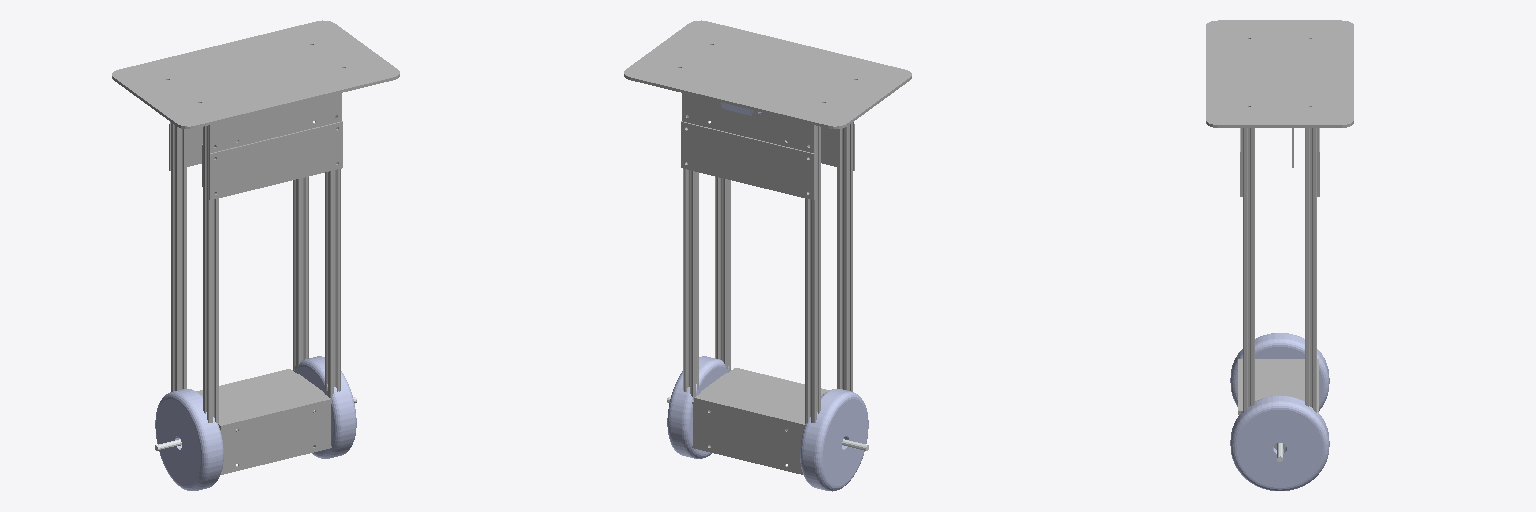
robot.urdf — robot_description:
<?xml version="1.0" encoding="utf-8"?>
<!-- This URDF was automatically created by SolidWorks to URDF Exporter! Originally created by [author] ([email redacted]) 
     Commit Version: 1.5.1-0-g916b5db  Build Version: 1.5.7152.31018
     For more information, please see http://wiki.ros.org/sw_urdf_exporter -->
<robot
  name="robot_description">

  <link name="dummy_link"/>
  <joint
    name="dummy_joint"
    type="fixed">
    <origin
      xyz="0 0 0"
      rpy="0 0 0" />
    <parent
      link="dummy_link" />
    <child
      link="base_link" />
    <axis
      xyz="0 0 1" />
  </joint>

  <link
    name="base_link">
    <inertial>
      <origin
        xyz="-0.029897 -0.0063579 0.065352"
        rpy="0 0 0" />
      <mass
        value="8.1022" />
      <inertia
        ixx="0.066729"
        ixy="-2.3487E-07"
        ixz="-4.1569E-08"
        iyy="0.11154"
        iyz="1.6155E-09"
        izz="0.072099" />
    </inertial>
    <visual>
      <origin
        xyz="0 0 0"
        rpy="0 0 0" />
      <geometry>
        <mesh
          filename="package://robot_description/meshes/base_link.STL" />
      </geometry>
      <material
        name="">
        <color
          rgba="0.75294 0.75294 0.75294 1" />
      </material>
    </visual>
    <collision>
      <origin
        xyz="0 0 0"
        rpy="0 0 0" />
      <geometry>
        <mesh
          filename="package://robot_description/meshes/base_link.STL" />
      </geometry>
    </collision>
  </link>
  <link
    name="wheelR">
    <inertial>
      <origin
        xyz="2.77555756156289E-17 0 -0.0254"
        rpy="0 0 0" />
      <mass
        value="0.531292410935558" />
      <inertia
        ixx="0.00147538813503172"
        ixy="-1.0842021724855E-19"
        ixz="1.61755601598952E-19"
        iyy="0.00147538813503172"
        iyz="2.59363716732849E-19"
        izz="0.00273092471725038" />
    </inertial>
    <visual>
      <origin
        xyz="0 0 0"
        rpy="0 0 0" />
      <geometry>
        <mesh
          filename="package://robot_description/meshes/wheelR.STL" />
      </geometry>
      <material
        name="">
        <color
          rgba="0.792156862745098 0.819607843137255 0.933333333333333 1" />
      </material>
    </visual>
    <collision>
      <origin
        xyz="0 0 0"
        rpy="0 0 0" />
      <geometry>
        <mesh
          filename="package://robot_description/meshes/wheelR.STL" />
      </geometry>
    </collision>
  </link>
  <joint
    name="wheelR"
    type="continuous">
    <origin
      xyz="0.14825 -0.0058043 -0.43388"
      rpy="1.5708 -0.49989 -1.5708" />
    <parent
      link="base_link" />
    <child
      link="wheelR" />
    <axis
      xyz="0 0 1" />
  </joint>
  <link
    name="wheelL">
    <inertial>
      <origin
        xyz="-1.38777878078145E-17 -5.55111512312578E-17 0.0254"
        rpy="0 0 0" />
      <mass
        value="0.531292410935558" />
      <inertia
        ixx="0.00147538813503172"
        ixy="5.42101086242752E-20"
        ixz="4.38565730543312E-20"
        iyy="0.00147538813503172"
        iyz="2.95878237444735E-19"
        izz="0.00273092471725038" />
    </inertial>
    <visual>
      <origin
        xyz="0 0 0"
        rpy="0 0 0" />
      <geometry>
        <mesh
          filename="package://robot_description/meshes/wheelL.STL" />
      </geometry>
      <material
        name="">
        <color
          rgba="0.792156862745098 0.819607843137255 0.933333333333333 1" />
      </material>
    </visual>
    <collision>
      <origin
        xyz="0 0 0"
        rpy="0 0 0" />
      <geometry>
        <mesh
          filename="package://robot_description/meshes/wheelL.STL" />
      </geometry>
    </collision>
  </link>
  <joint
    name="wheelL"
    type="continuous">
    <origin
      xyz="-0.20735 -0.0058043 -0.43388"
      rpy="1.5708 -0.16952 -1.5708" />
    <parent
      link="base_link" />
    <child
      link="wheelL" />
    <axis
      xyz="0 0 1" />
  </joint>
  <link
    name="axle">
    <inertial>
      <origin
        xyz="0 0 0.0295470259206042"
        rpy="0 0 0" />
      <mass
        value="0.156374995124279" />
      <inertia
        ixx="0.00272552243775348"
        ixy="0"
        ixz="3.12809364604665E-20"
        iyy="0.00272552243775348"
        iyz="-3.58631475316958E-20"
        izz="3.15271537044936E-06" />
    </inertial>
    <visual>
      <origin
        xyz="0 0 0"
        rpy="0 0 0" />
      <geometry>
        <mesh
          filename="package://robot_description/meshes/axle.STL" />
      </geometry>
      <material
        name="">
        <color
          rgba="0.898039215686275 0.917647058823529 0.929411764705882 1" />
      </material>
    </visual>
    <collision>
      <origin
        xyz="0 0 0"
        rpy="0 0 0" />
      <geometry>
        <mesh
          filename="package://robot_description/meshes/axle.STL" />
      </geometry>
    </collision>
  </link>
  <joint
    name="axle"
    type="continuous">
    <origin
      xyz="0 -0.0058043 -0.43388"
      rpy="1.5708 -0.16952 -1.5708" />
    <parent
      link="base_link" />
    <child
      link="axle" />
    <axis
      xyz="0 0 1" />
  </joint>
  <link
    name="imu">
    <inertial>
      <origin
        xyz="0.0702671829297933 0.0433182168167037 0.00311790227403105"
        rpy="0 0 0" />
      <mass
        value="0.00193444274238064" />
      <inertia
        ixx="1.09813619074972E-08"
        ixy="1.49485542158906E-13"
        ixz="1.3484857912011E-11"
        iyy="1.80973076703801E-07"
        iyz="-9.76320992902E-15"
        izz="1.76200582662131E-07" />
    </inertial>
    <visual>
      <origin
        xyz="0 0 0"
        rpy="0 0 0" />
      <geometry>
        <mesh
          filename="package://robot_description/meshes/imu.STL" />
      </geometry>
      <material
        name="">
        <color
          rgba="0.768627450980392 0.768627450980392 0.768627450980392 1" />
      </material>
    </visual>
    <collision>
      <origin
        xyz="0 0 0"
        rpy="0 0 0" />
      <geometry>
        <mesh
          filename="package://robot_description/meshes/imu.STL" />
      </geometry>
    </collision>
  </link>
  <joint
    name="imu"
    type="fixed">
    <origin
      xyz="-0.10543 0.023034 0.14615"
      rpy="0 0 0" />
    <parent
      link="base_link" />
    <child
      link="imu" />
    <axis
      xyz="0 0 0" />
  </joint>
  <link
    name="camera">
    <inertial>
      <origin
        xyz="0.000246195466370943 -6.05676742689298E-05 -0.0130484999621894"
        rpy="0 0 0" />
      <mass
        value="0.0447522023670591" />
      <inertia
        ixx="3.94471827120579E-06"
        ixy="-2.80195543064429E-09"
        ixz="2.44340810766353E-07"
        iyy="2.73620934350801E-05"
        iyz="-1.17404624738118E-09"
        izz="2.72775297863941E-05" />
    </inertial>
    <visual>
      <origin
        xyz="0 0 0"
        rpy="0 0 0" />
      <geometry>
        <mesh
          filename="package://robot_description/meshes/camera.STL" />
      </geometry>
      <material
        name="">
        <color
          rgba="0.792156862745098 0.819607843137255 0.933333333333333 1" />
      </material>
    </visual>
    <collision>
      <origin
        xyz="0 0 0"
        rpy="0 0 0" />
      <geometry>
        <mesh
          filename="package://robot_description/meshes/camera.STL" />
      </geometry>
    </collision>
  </link>
  <joint
    name="camera"
    type="fixed">
    <origin
      xyz="-0.024483 0.098571 0.29873"
      rpy="1.5708 0 3.1416" />
    <parent
      link="base_link" />
    <child
      link="camera" />
    <axis
      xyz="0 0 0" />
  </joint>
</robot>

--- Facts derived from the render (not from the file) ---
Views: 3 orthographic renders of the robot side by side, from view 1: azimuth 30°, elevation 25°; view 2: azimuth 150°, elevation 25°; view 3: azimuth 270°, elevation 25°.
Robot: robot_description — 7 links, 6 joints (3 continuous, 3 fixed); root link dummy_link; default pose: every joint at zero.
Links seen in each view (by area): view 1: base_link, wheelL, wheelR; view 2: base_link, wheelL, wheelR; view 3: base_link, wheelR, wheelL.
Boxes of the visible links, left/top/right/bottom form: base_link: left=112, top=20, right=399, bottom=474; wheelL: left=155, top=389, right=223, bottom=490; wheelR: left=294, top=356, right=356, bottom=458; base_link: left=624, top=20, right=911, bottom=474; wheelL: left=800, top=389, right=868, bottom=491; wheelR: left=667, top=356, right=729, bottom=458; base_link: left=1206, top=20, right=1353, bottom=449; wheelR: left=1230, top=396, right=1329, bottom=490; wheelL: left=1230, top=333, right=1329, bottom=410.
Bounding box of the posed robot: 0.508 × 0.3048 × 0.8699 m (x, y, z).
6 mesh visuals loaded from 6 distinct referenced files (6 binary STL).